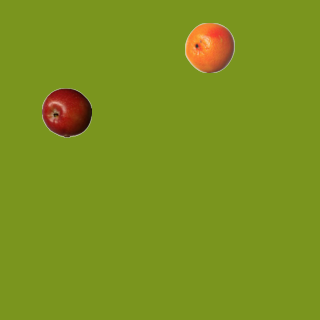Apple Braeburn: (41, 87, 91, 137)
Grapefruit Pink: (184, 22, 234, 72)
